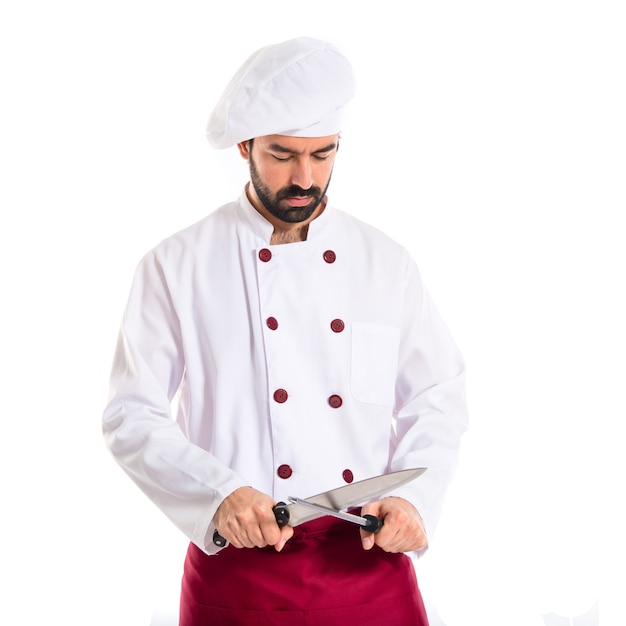knife: (278, 466, 427, 528)
